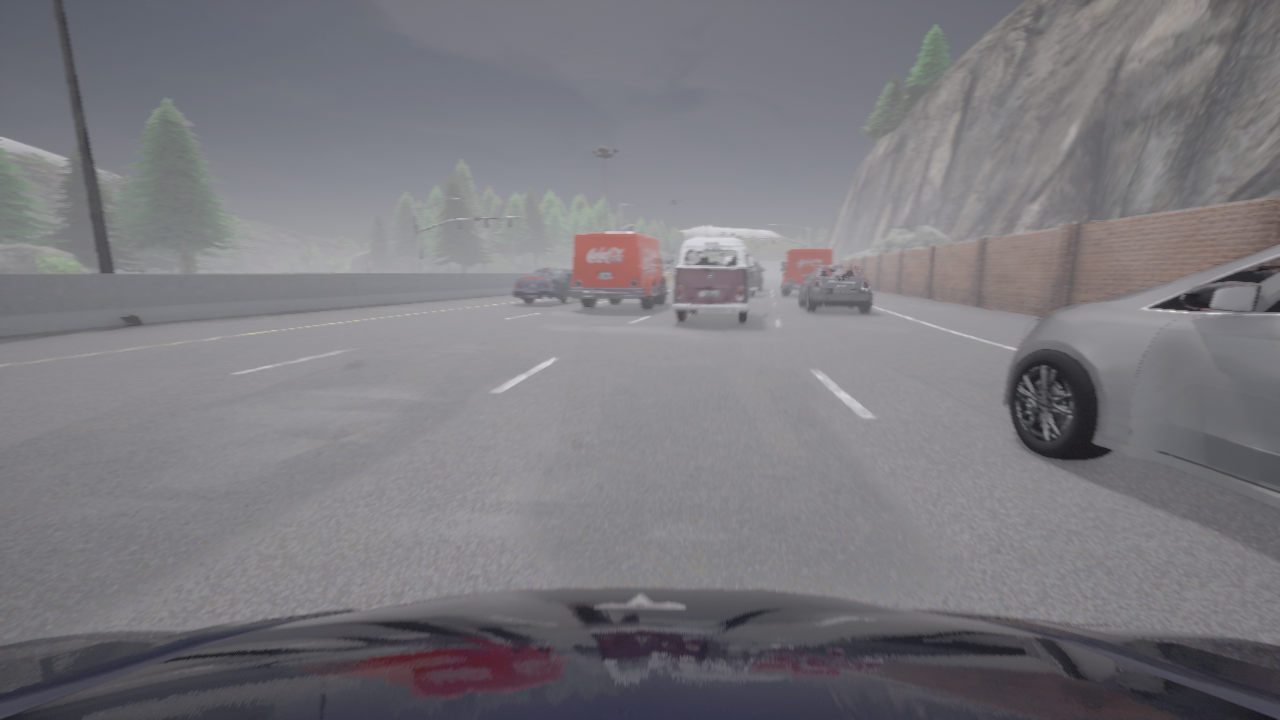cyclist: (0, 588, 1279, 719), (1002, 245, 1279, 509), (570, 232, 671, 309), (673, 237, 756, 323), (799, 265, 872, 313), (781, 249, 832, 295), (513, 269, 574, 304), (748, 257, 760, 297), (756, 262, 764, 290), (781, 265, 786, 275)
